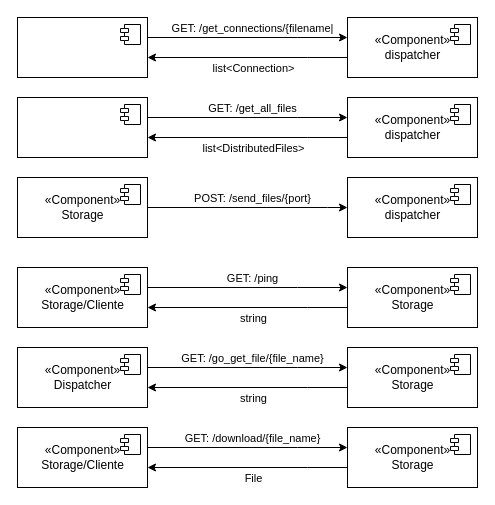
This 495x505 diagram has some shape labels left out. Here are the shapes that lost their labels. From the top down, the centre of each, then its label:
the point at 82,47: «Component» Cliente/Storage
the point at 82,127: «Component» Cliente
